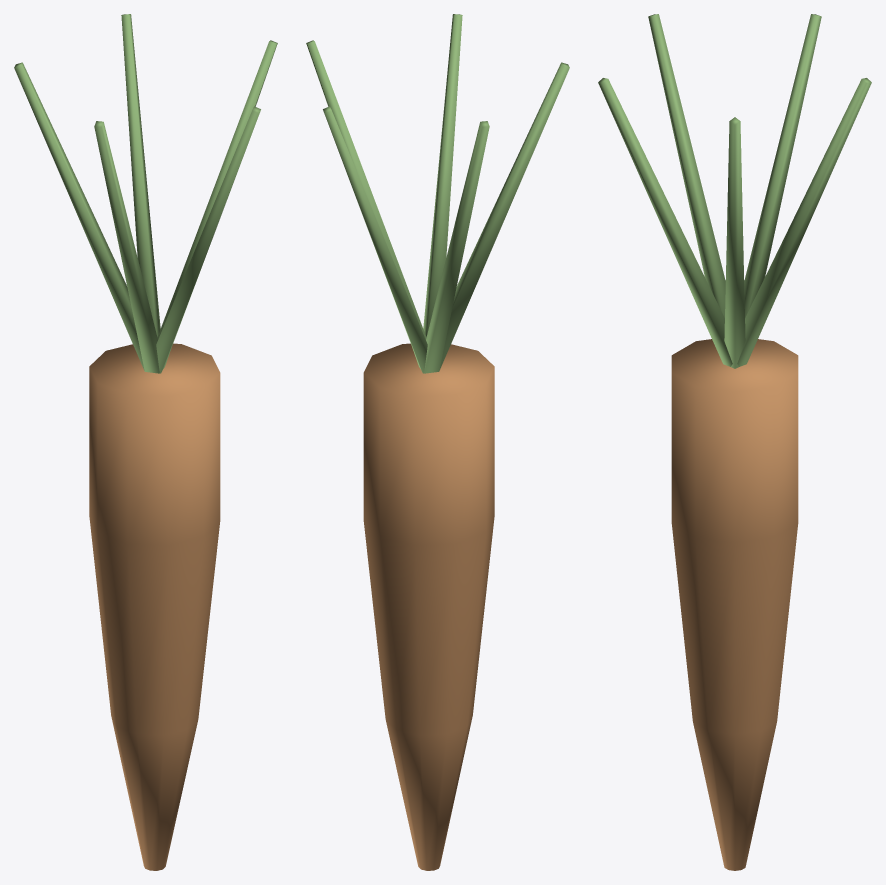
Rendered from SM_Item_carrot_roasted.gltf.
The picture shows the model from 3 angles, left to right: view 1: azimuth 30°, elevation 25°; view 2: azimuth 150°, elevation 25°; view 3: azimuth 270°, elevation 25°; orthographic projection.
Visible parts, largest first — view 1: SM_Item_carrot_roasted; view 2: SM_Item_carrot_roasted; view 3: SM_Item_carrot_roasted.
Boxes of the visible parts, <box> form: SM_Item_carrot_roasted: <box>14,14,277,870</box>; SM_Item_carrot_roasted: <box>306,14,569,870</box>; SM_Item_carrot_roasted: <box>598,14,871,870</box>.
Bounding box in the file's own units: 0.0942 × 0.3208 × 0.0988.
